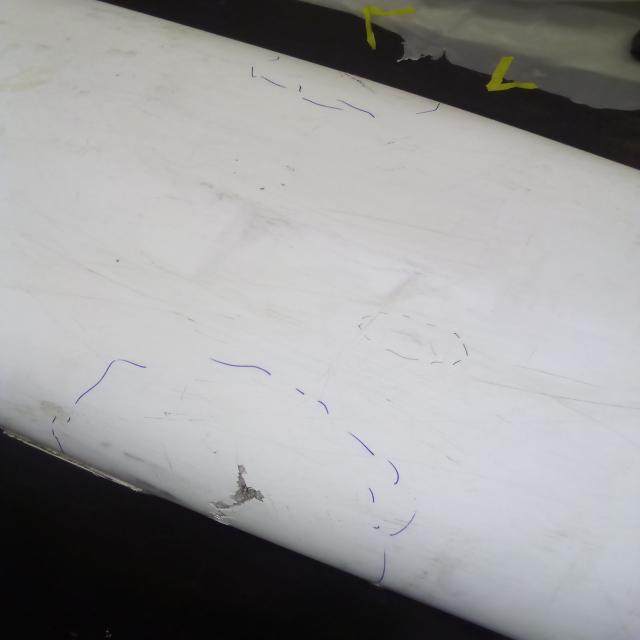Rupture: (209, 463, 268, 528)
